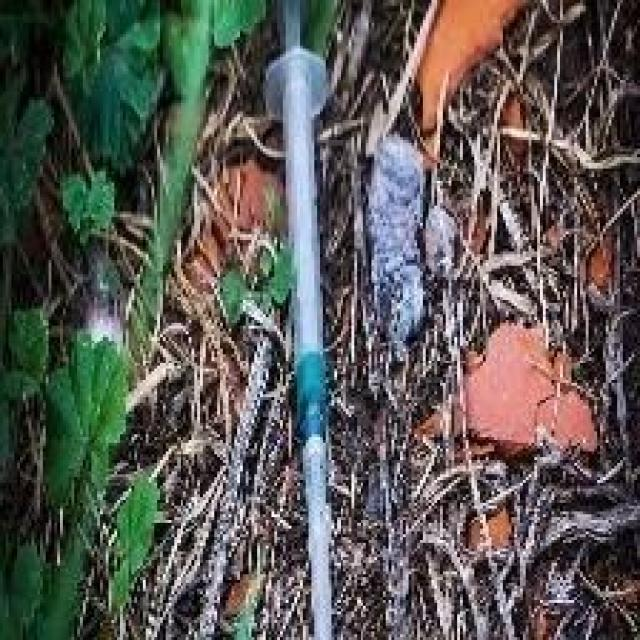syringe: (250, 0, 373, 640)
